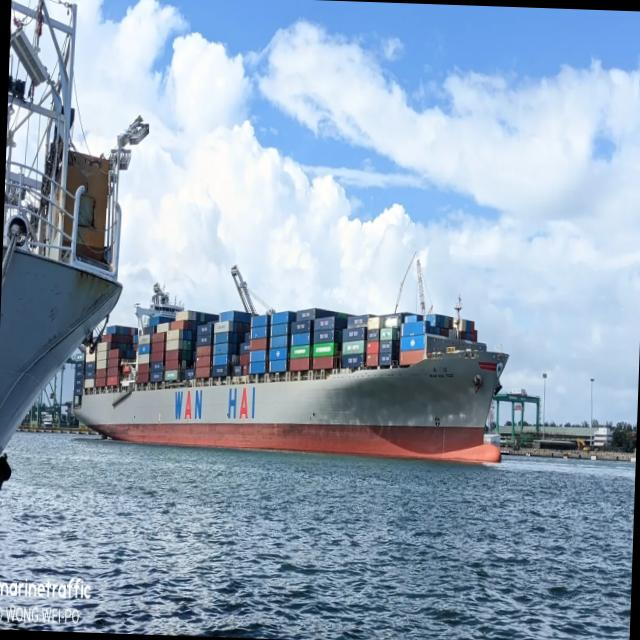Cargo: (74, 284, 508, 461), (455, 300, 460, 313)
